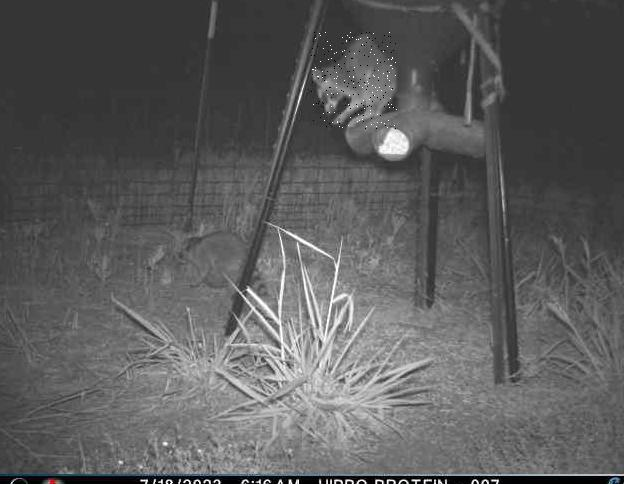Raccoon: (311, 31, 397, 129)
